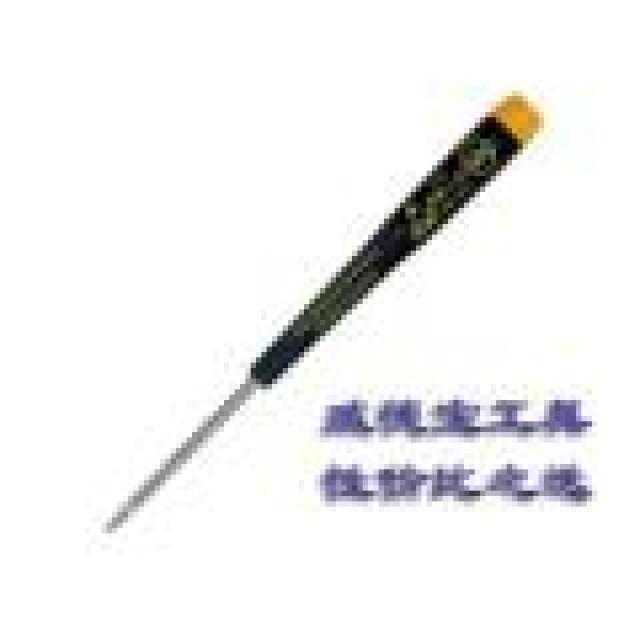screwdriver: (94, 84, 556, 545)
